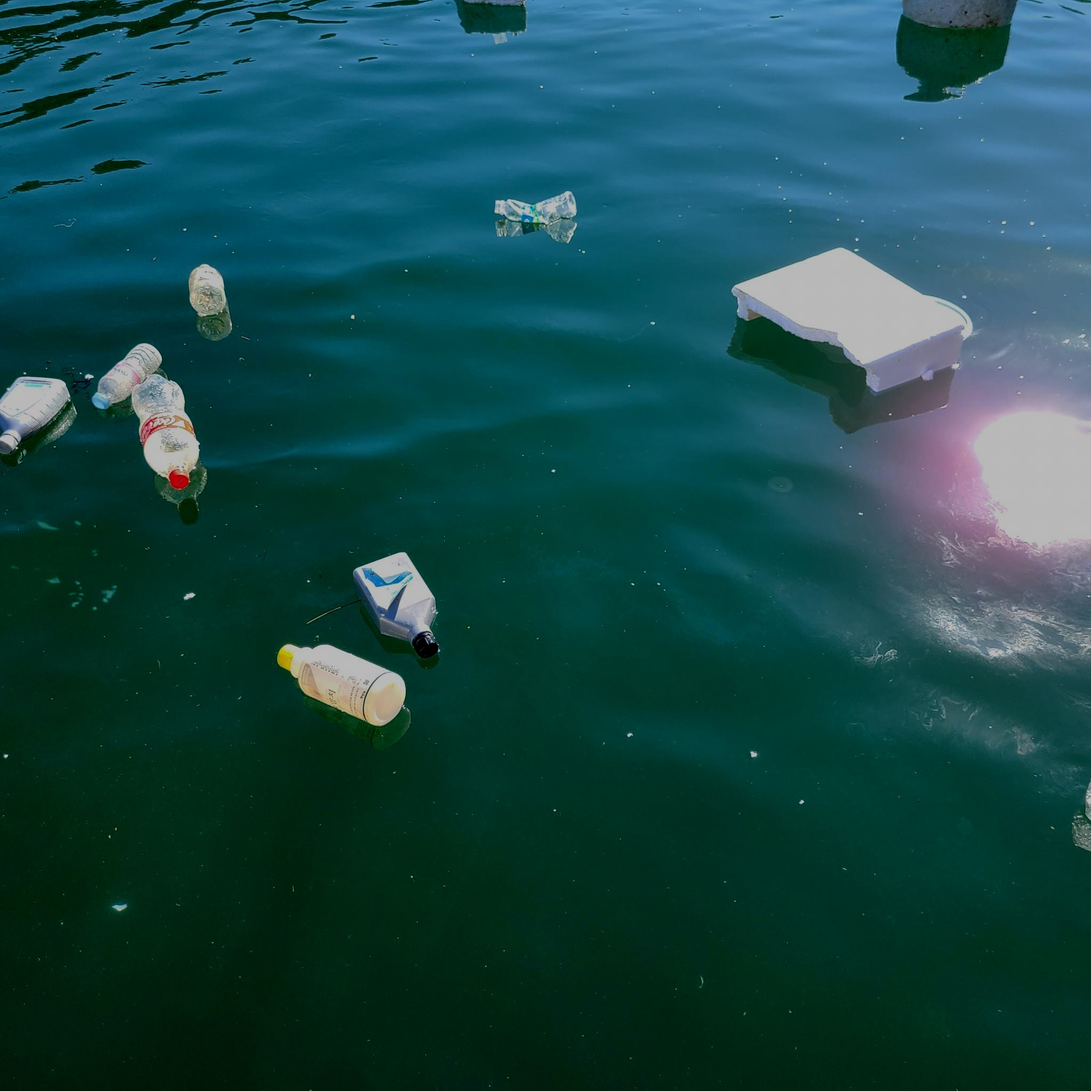sampah_terapung: (732, 247, 966, 393), (278, 644, 407, 726), (354, 553, 439, 659), (132, 375, 199, 489), (2, 377, 72, 454), (92, 343, 164, 410), (903, 1, 1017, 29), (494, 191, 577, 223), (189, 265, 226, 315), (466, 1, 527, 7)
